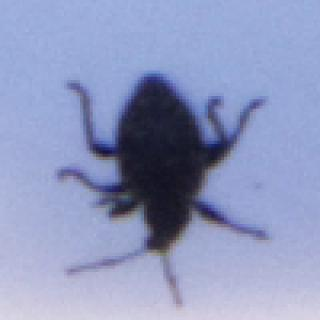bvw: (54, 70, 271, 308)
